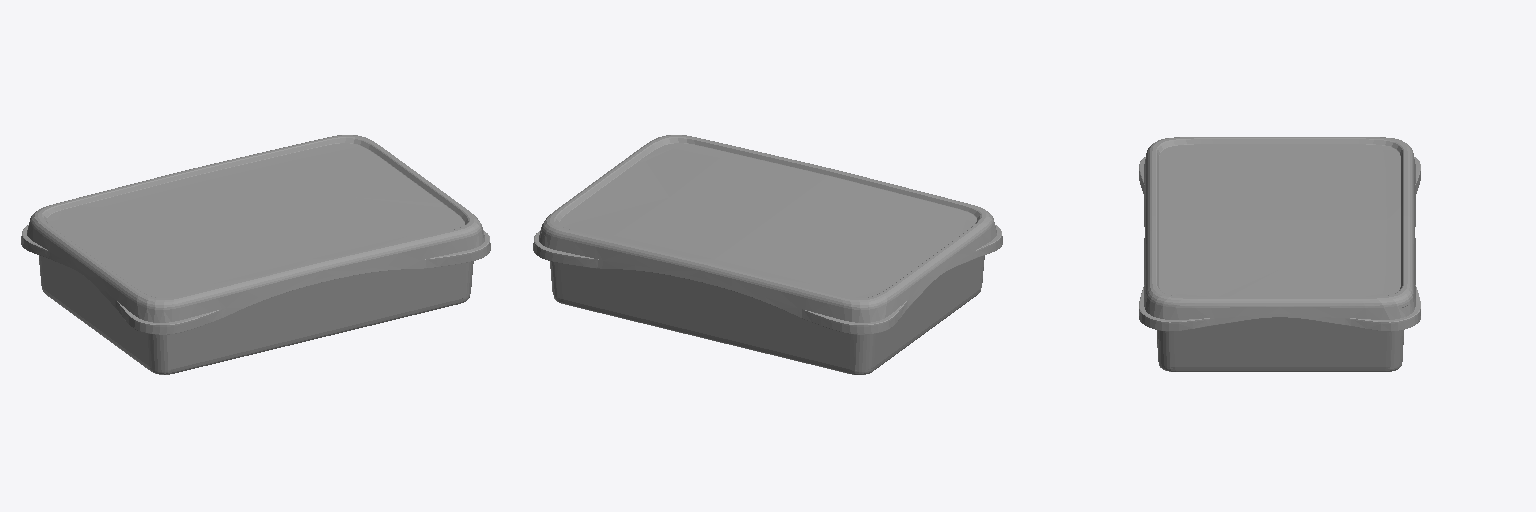
Rendered from Arla_Current.obj.
3 renders of one model, left to right at view 1: azimuth 30°, elevation 25°; view 2: azimuth 150°, elevation 25°; view 3: azimuth 270°, elevation 25°, orthographic.
Parts seen in each view (by area): view 1: polySurface20; view 2: polySurface20; view 3: polySurface20.
Part boxes in pixels (bbox=[...]): polySurface20: bbox=[21, 135, 490, 374]; polySurface20: bbox=[533, 135, 1002, 374]; polySurface20: bbox=[1139, 137, 1420, 371].
Bounding box in the file's own units: 10.9 × 2.35 × 7.53.